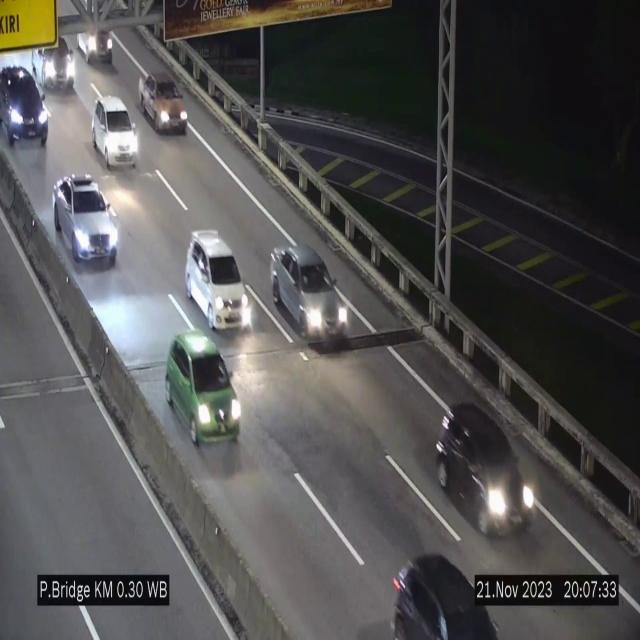Car: (433, 398, 535, 548), (384, 538, 502, 640), (165, 332, 241, 463), (270, 245, 350, 343), (185, 231, 253, 330), (52, 175, 118, 262), (0, 66, 54, 154), (28, 29, 82, 95), (93, 96, 139, 169), (69, 14, 121, 73), (138, 73, 188, 131)
